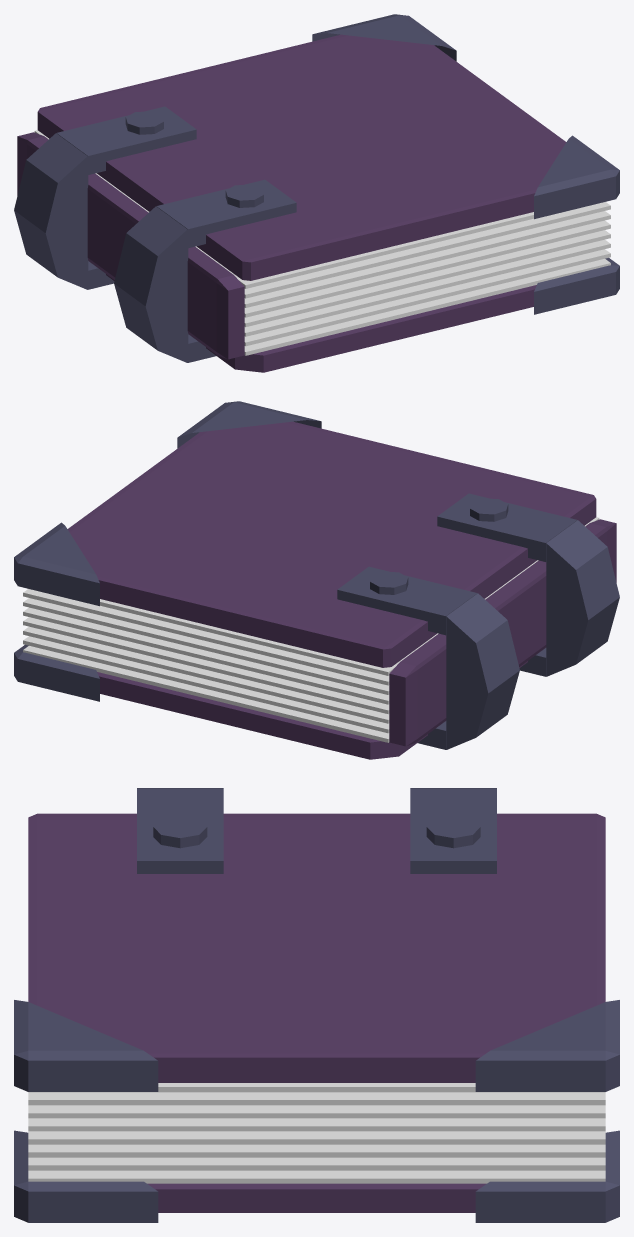
The model's file is genericBook.fbx.
3 views of the same model, one above another, from view 1: azimuth 30°, elevation 25°; view 2: azimuth 150°, elevation 25°; view 3: azimuth 270°, elevation 25° (orthographic). The views are drawn at different scales.
Visible parts, largest first — view 1: Cover L, Cylinder, Spine, Cube.004, Cube.001, Cover R, Cube.007, Cube.009, Cube.010, Cube.011, Cube.008, Cube.012 (+5 smaller); view 2: Cover L, Cylinder, Spine, Cube.004, Cube.001, Cover R, Cube.007, Cube.009, Cube.010, Cube.011, Cube.008, Cube.012 (+5 smaller); view 3: Cover L, Cube.001, Cube, Cube.004, Cover R, Cube.007, Cube.008, Cube.009, Cube.010, Cube.011, Cube.012, Cube.006 (+2 smaller).
Boxes of the visible parts, box(x1,y1,x2,y2) form: Cover L: box(37, 34, 566, 280); Cylinder: box(14, 133, 188, 362); Spine: box(17, 132, 244, 359); Cube.004: box(56, 106, 296, 248); Cube.001: box(312, 14, 619, 219); Cover R: box(106, 274, 536, 372); Cube.007: box(244, 249, 610, 346); Cube.009: box(244, 230, 610, 327); Cube.010: box(244, 220, 610, 317); Cube.011: box(244, 211, 610, 307); Cube.008: box(244, 239, 610, 336); Cube.012: box(244, 202, 610, 298); Cover L: box(67, 421, 596, 667); Cylinder: box(446, 520, 619, 749); Spine: box(389, 519, 616, 746); Cube.004: box(337, 493, 577, 635); Cube.001: box(14, 401, 321, 606); Cover R: box(97, 661, 527, 759); Cube.007: box(23, 636, 389, 733); Cube.009: box(23, 617, 389, 714); Cube.010: box(23, 607, 389, 704); Cube.011: box(23, 598, 389, 694); Cube.008: box(23, 626, 389, 723); Cube.012: box(23, 589, 389, 685); Cover L: box(28, 813, 605, 1082); Cube.001: box(14, 1000, 619, 1091); Cube: box(14, 1130, 619, 1222); Cube.004: box(137, 788, 496, 873); Cover R: box(147, 1183, 486, 1212); Cube.007: box(28, 1157, 605, 1170); Cube.008: box(28, 1144, 605, 1157); Cube.009: box(28, 1131, 605, 1144); Cube.010: box(28, 1118, 605, 1131); Cube.011: box(28, 1105, 605, 1118); Cube.012: box(28, 1092, 605, 1105); Cube.006: box(28, 1170, 605, 1183).
Bounding box in the file's own units: 238 × 73.86 × 210.
